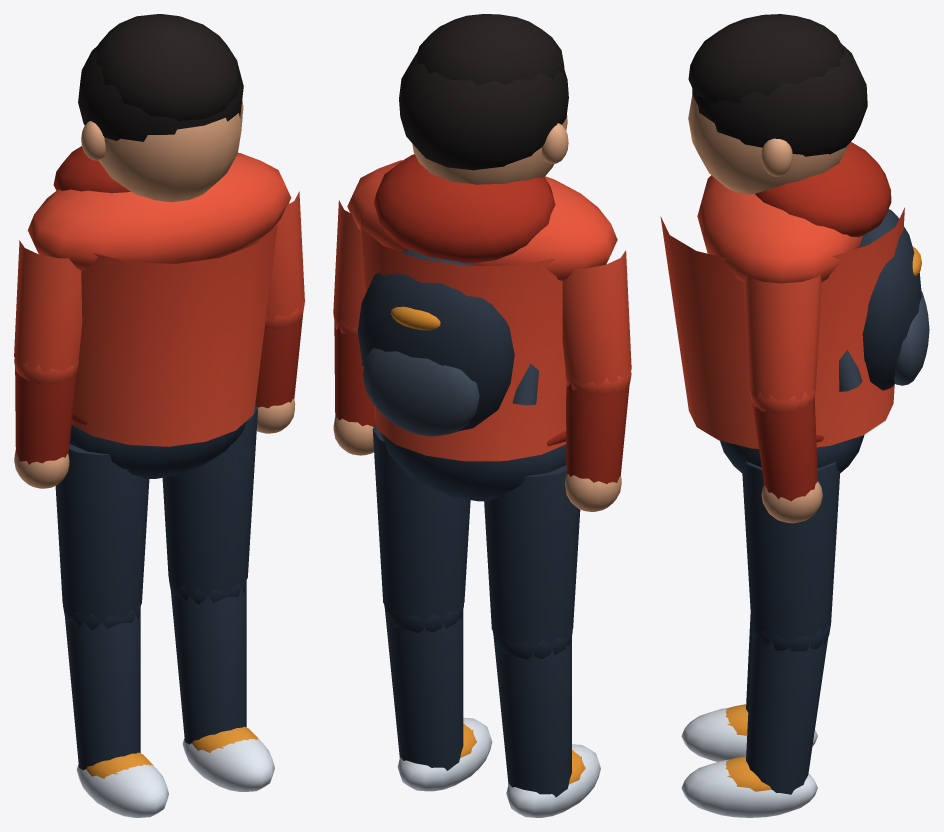
File: walker.glb
3 renders of one model, left to right at view 1: azimuth 30°, elevation 25°; view 2: azimuth 150°, elevation 25°; view 3: azimuth 270°, elevation 25°, orthographic. The views are drawn at different scales.
Parts seen in each view (by area): view 1: body; view 2: body; view 3: body.
Boxes of the visible parts, x1=… form: body: x1=14, y1=14, x2=304, y2=817; body: x1=333, y1=14, x2=631, y2=817; body: x1=660, y1=14, x2=929, y2=817.
Size of the model in its own units: 0.576 by 1.48 by 0.4728.
Materials: 1 (1 with a texture image).
